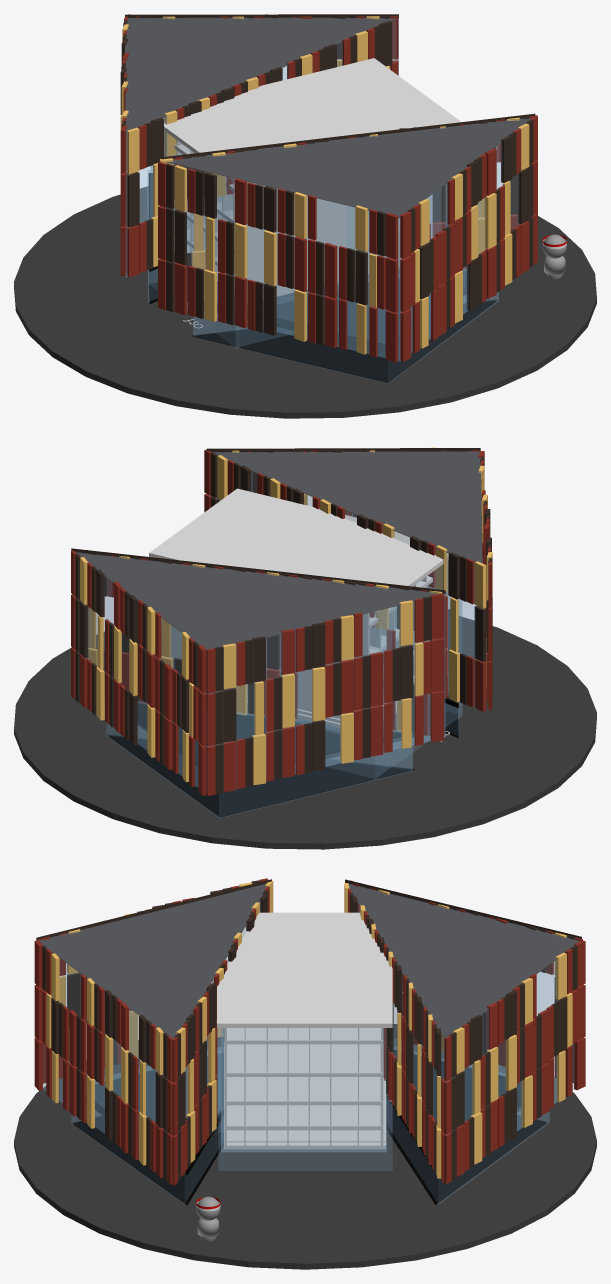
The picture shows the model from 3 angles, top to bottom: view 1: azimuth 30°, elevation 25°; view 2: azimuth 150°, elevation 25°; view 3: azimuth 270°, elevation 25°; orthographic projection.
Parts seen in each view (by area): view 1: Text, Cylinder, Cylinder.001; view 2: Text, Cylinder; view 3: Text, Cylinder, Cylinder.001.
Part boxes in pixels (x1,y1,x2,y2): Text: [120, 14, 537, 383]; Cylinder: [14, 184, 596, 418]; Cylinder.001: [542, 234, 566, 279]; Text: [71, 447, 492, 818]; Cylinder: [14, 616, 596, 849]; Text: [34, 878, 585, 1205]; Cylinder: [14, 1024, 596, 1269]; Cylinder.001: [196, 1196, 220, 1241].
Size of the model in its own units: 25.06 by 8.97 by 25.06.
